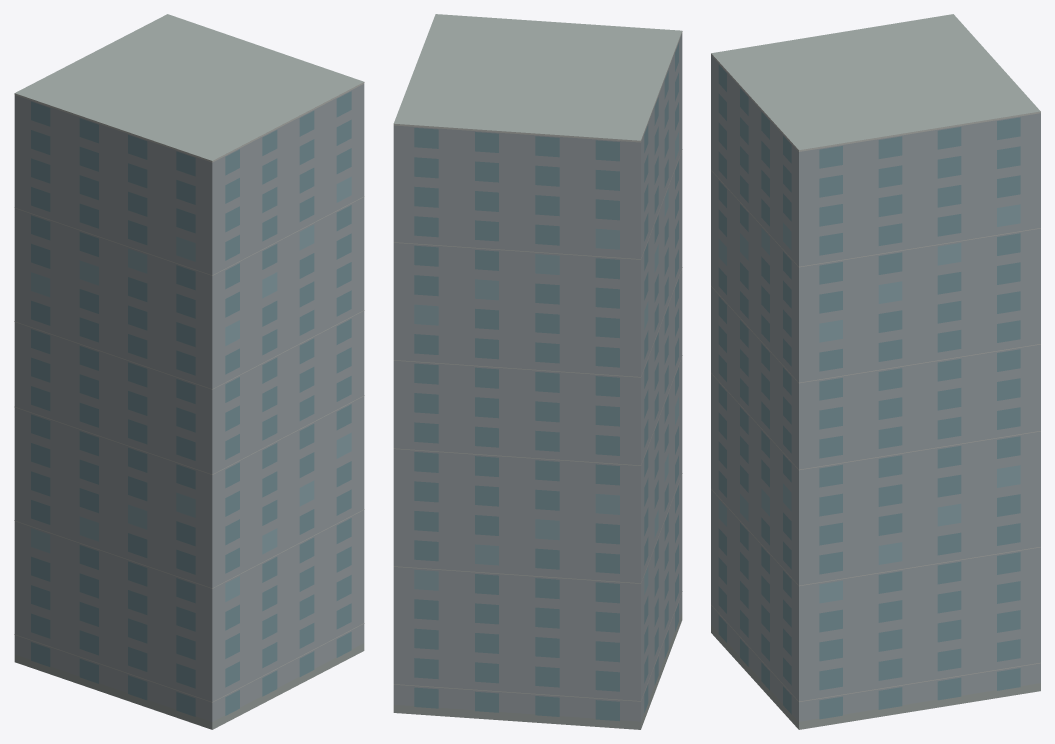
Rendered from survey-upis-32857037.glb.
3 renders of one model, left to right at view 1: azimuth 30°, elevation 25°; view 2: azimuth 150°, elevation 25°; view 3: azimuth 270°, elevation 25°, orthographic. The views are drawn at different scales.
Parts seen in each view (by area): view 1: survey-upis-32857037.tmp; view 2: survey-upis-32857037.tmp; view 3: survey-upis-32857037.tmp.
Boxes of the visible parts, bbox=[...] form: survey-upis-32857037.tmp: bbox=[14, 14, 364, 729]; survey-upis-32857037.tmp: bbox=[393, 14, 682, 729]; survey-upis-32857037.tmp: bbox=[711, 14, 1040, 729].
Bounding box in the file's own units: 41.16 × 81.6 × 42.08.
